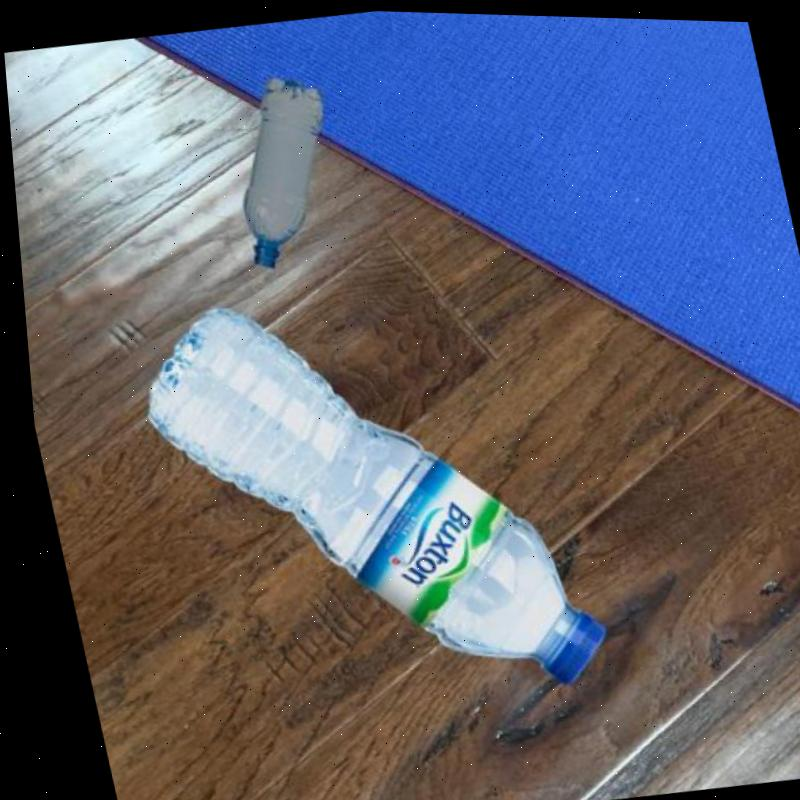botella: (115, 258, 609, 734), (212, 67, 355, 271)
